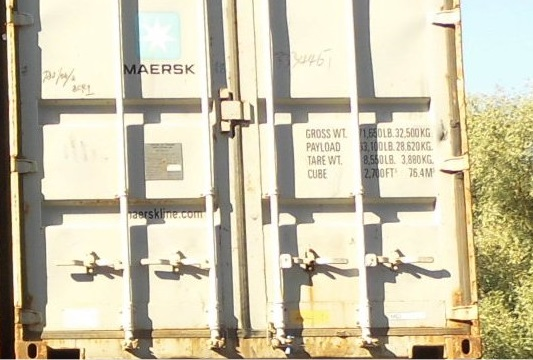container_door: (3, 1, 484, 355)
